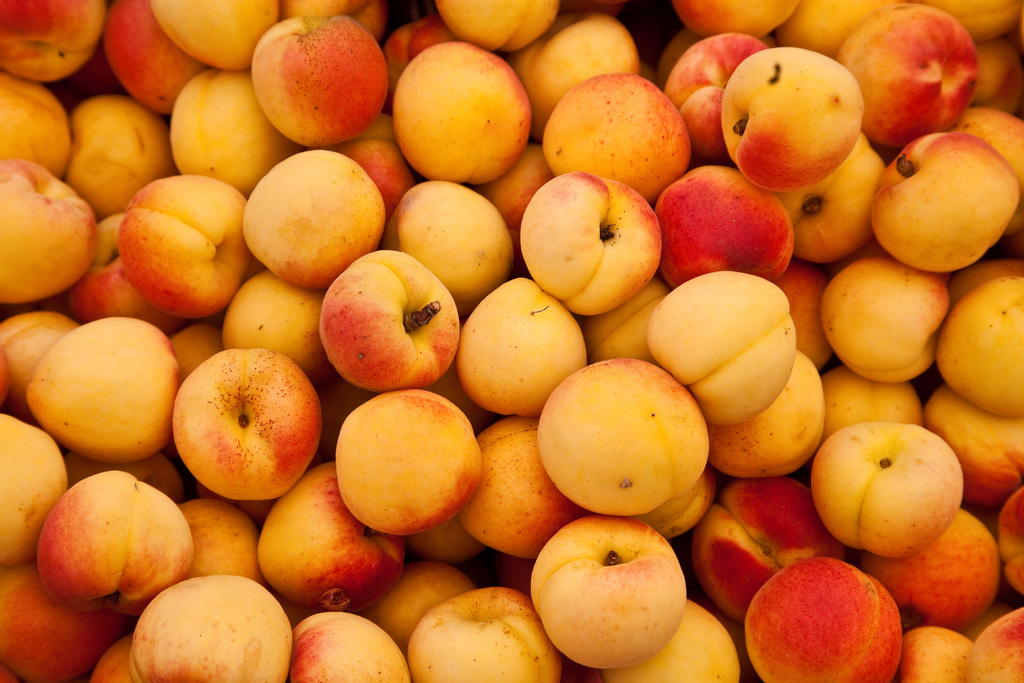Apple: (0, 0, 1023, 682), (526, 520, 713, 666)
